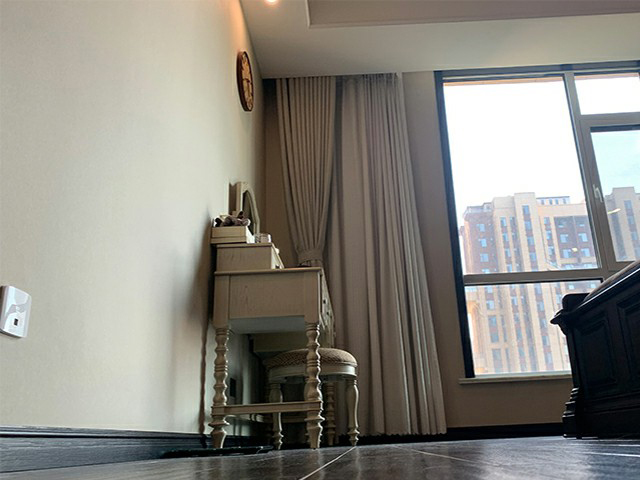curtain: (275, 72, 447, 437)
stool: (550, 258, 640, 442), (263, 347, 358, 451)
table: (205, 264, 336, 453)
